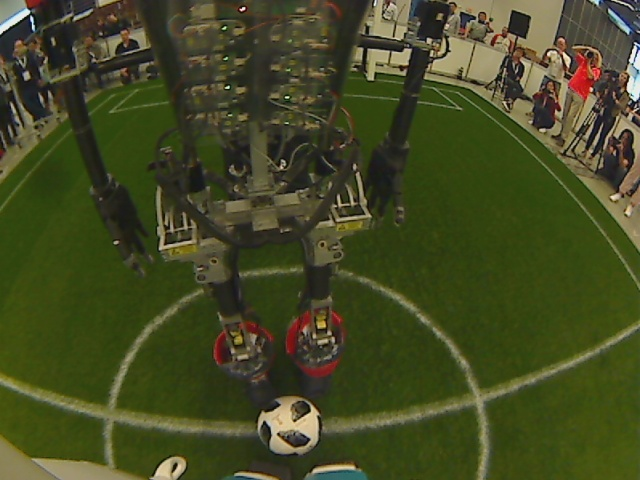ball: (255, 397, 325, 456)
goalpost: (364, 69, 379, 85)
robot: (221, 304, 350, 393)
